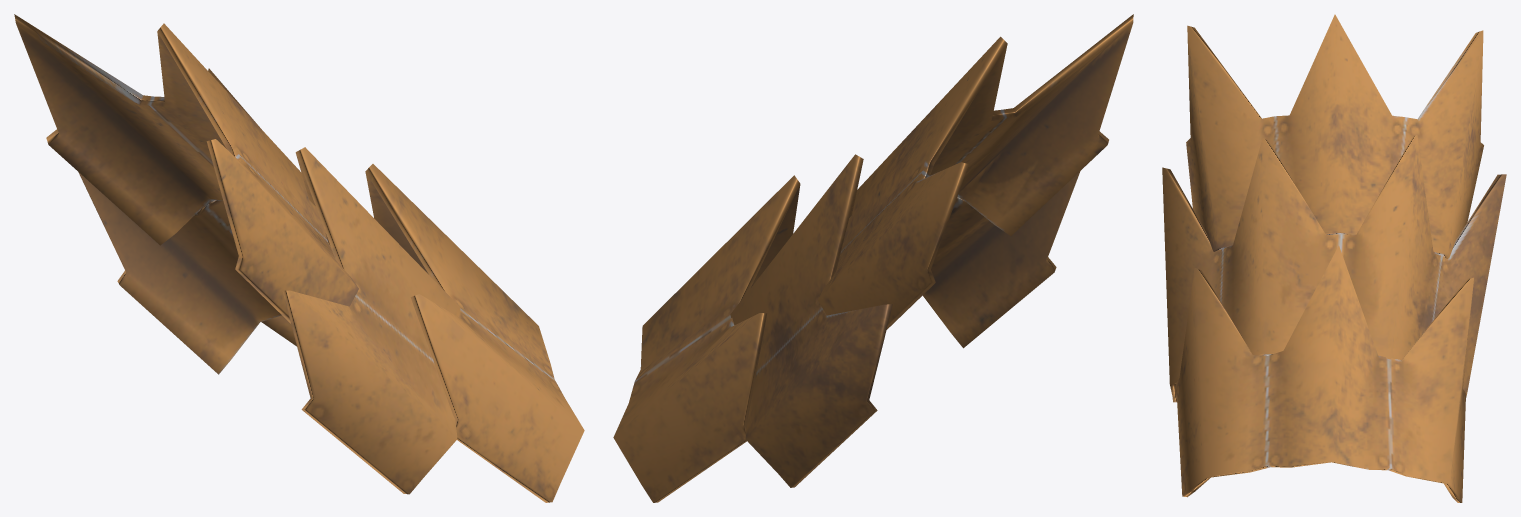
Rendered from easterlingwarriors03_cape.fbx.
3 views of the same model, side by side, from view 1: azimuth 30°, elevation 25°; view 2: azimuth 150°, elevation 25°; view 3: azimuth 270°, elevation 25° (orthographic). The views are drawn at different scales.
Parts seen in each view (by area): view 1: easterlingwarriors03_cape; view 2: easterlingwarriors03_cape; view 3: easterlingwarriors03_cape.
Part boxes in pixels (x1=…): easterlingwarriors03_cape: x1=14, y1=14, x2=584, y2=502; easterlingwarriors03_cape: x1=613, y1=14, x2=1133, y2=502; easterlingwarriors03_cape: x1=1162, y1=14, x2=1506, y2=502.
Size of the model in its own units: 0.2365 by 0.2104 by 0.2587.
Materials: 1 (1 with a texture image).
